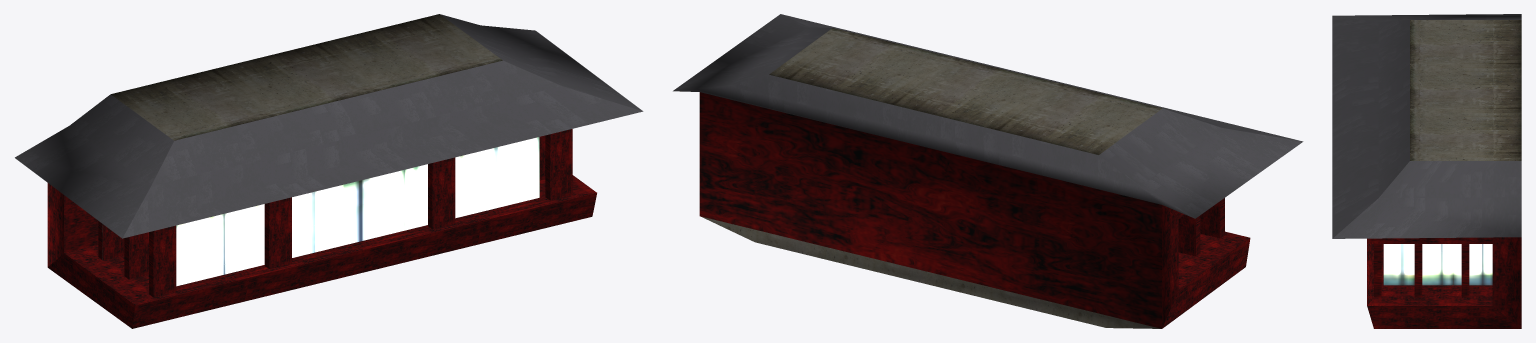
The model's file is Wall_Module_06.glb.
The picture shows the model from 3 angles, left to right: view 1: azimuth 30°, elevation 25°; view 2: azimuth 150°, elevation 25°; view 3: azimuth 270°, elevation 25°; orthographic projection. The views are drawn at different scales.
Parts seen in each view (by area): view 1: Wall_Module_06; view 2: Wall_Module_06; view 3: Wall_Module_06.
Part boxes in pixels (x1,y1,x2,y2): Wall_Module_06: (15,14,643,328); Wall_Module_06: (673,14,1303,328); Wall_Module_06: (1332,14,1521,328).
Bounding box in the file's own units: 2.23 × 0.6977 × 0.8001.
1 material, 1 textured.
